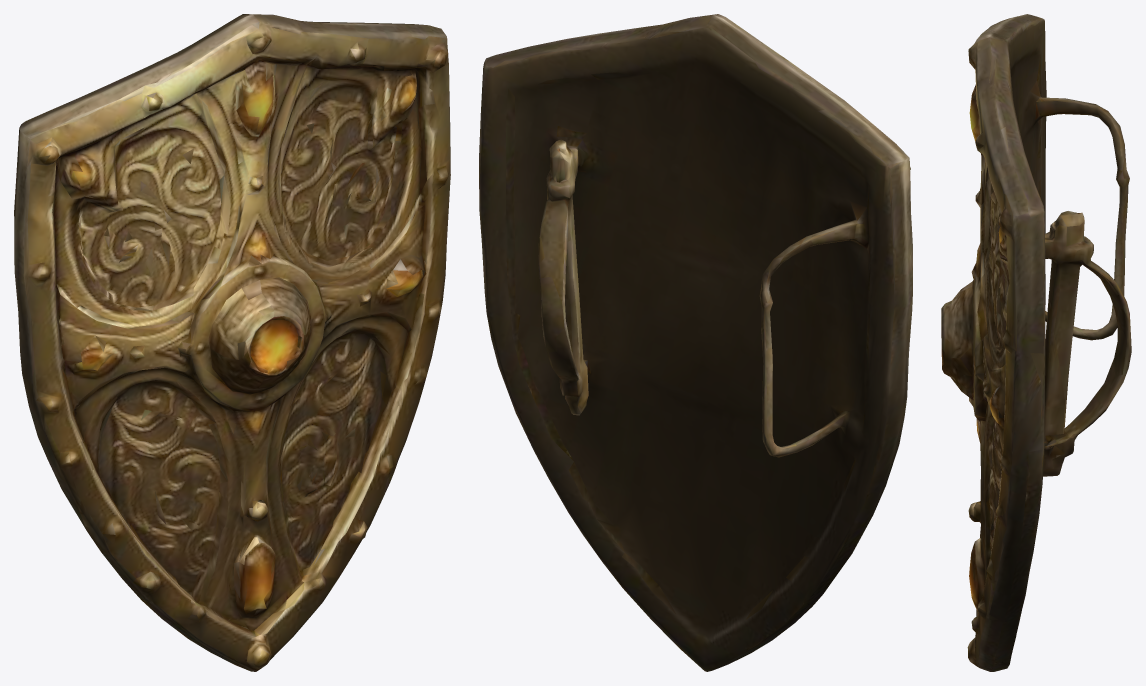
File: escudo-filigrana-m68.glb
The picture shows the model from 3 angles, left to right: view 1: azimuth 30°, elevation 25°; view 2: azimuth 150°, elevation 25°; view 3: azimuth 270°, elevation 25°; orthographic projection. The views are drawn at different scales.
Visible parts, largest first — view 1: escudo-filigrana; view 2: escudo-filigrana; view 3: escudo-filigrana.
Part boxes in pixels (left/top/right/bottom): escudo-filigrana: left=14, top=14, right=450, bottom=671; escudo-filigrana: left=479, top=14, right=912, bottom=671; escudo-filigrana: left=941, top=14, right=1131, bottom=671.
Size of the model in its own units: 0.6868 by 1 by 0.2721.
Materials: 1 (1 with a texture image).
